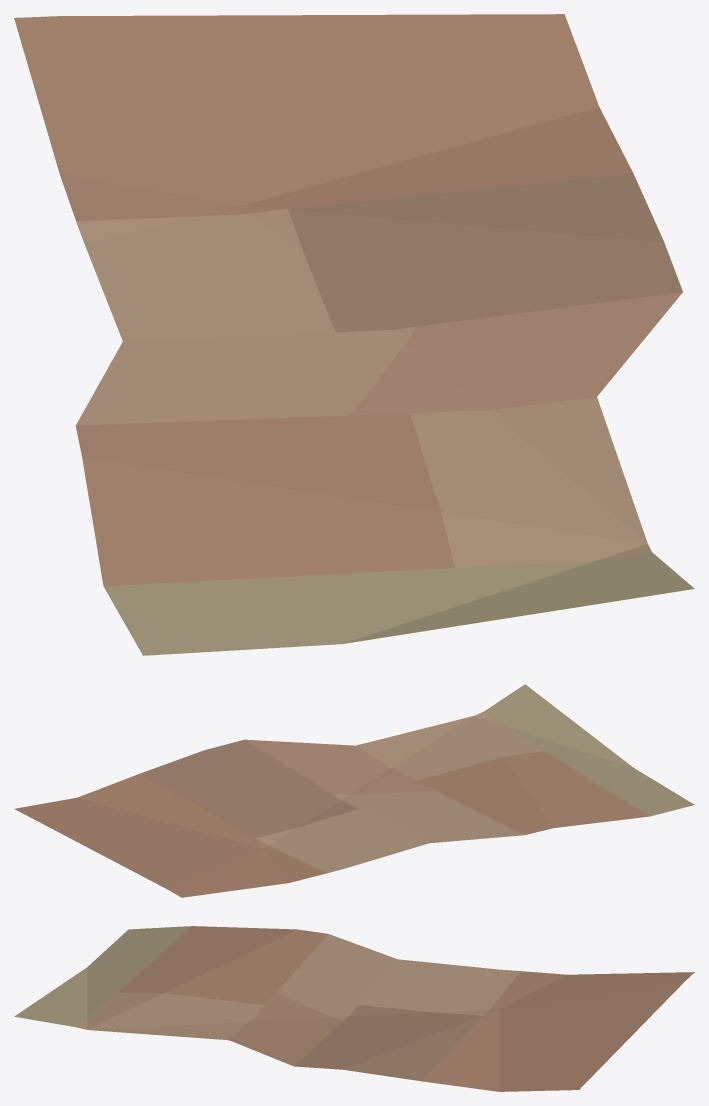
The model's file is farm_-55_-53_soil.glb.
The picture shows the model from 3 angles, top to bottom: view 1: azimuth 30°, elevation 25°; view 2: azimuth 150°, elevation 25°; view 3: azimuth 270°, elevation 25°; orthographic projection. The views are drawn at different scales.
Parts seen in each view (by area): view 1: geometry_0; view 2: geometry_0; view 3: geometry_0.
Part boxes in pixels (x1,y1,x2,y2): geometry_0: [14, 14, 694, 655]; geometry_0: [14, 684, 694, 897]; geometry_0: [14, 926, 694, 1091].
Bounding box in the file's own units: 98.43 × 13.6 × 132.
